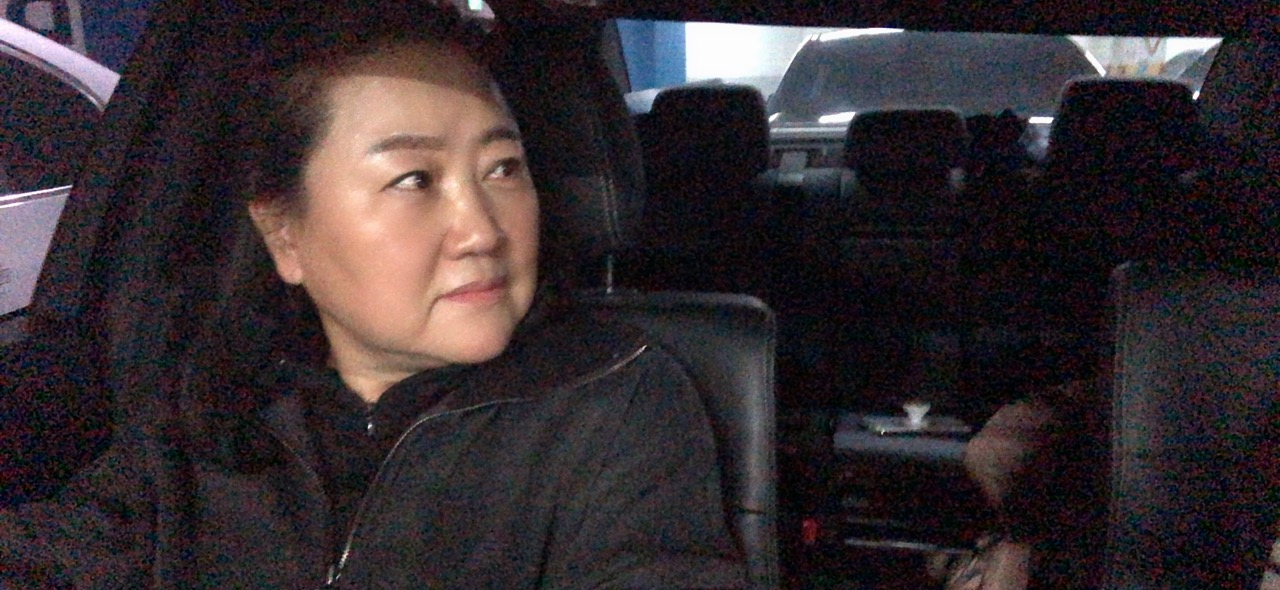right: (28, 2, 744, 590)
